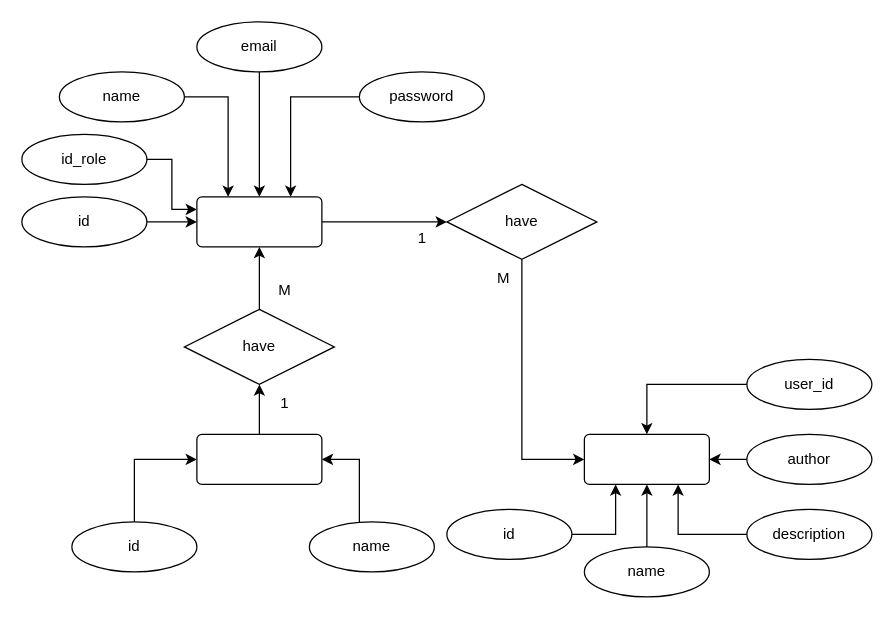
Image size: 894x619. Some labels were removed from this diagram. The shapes that lost their labels are listed below. From the top down, each one's centre as x and y in pixels, then its label:
[259,221]: users
[259,458]: roles
[646,458]: books
